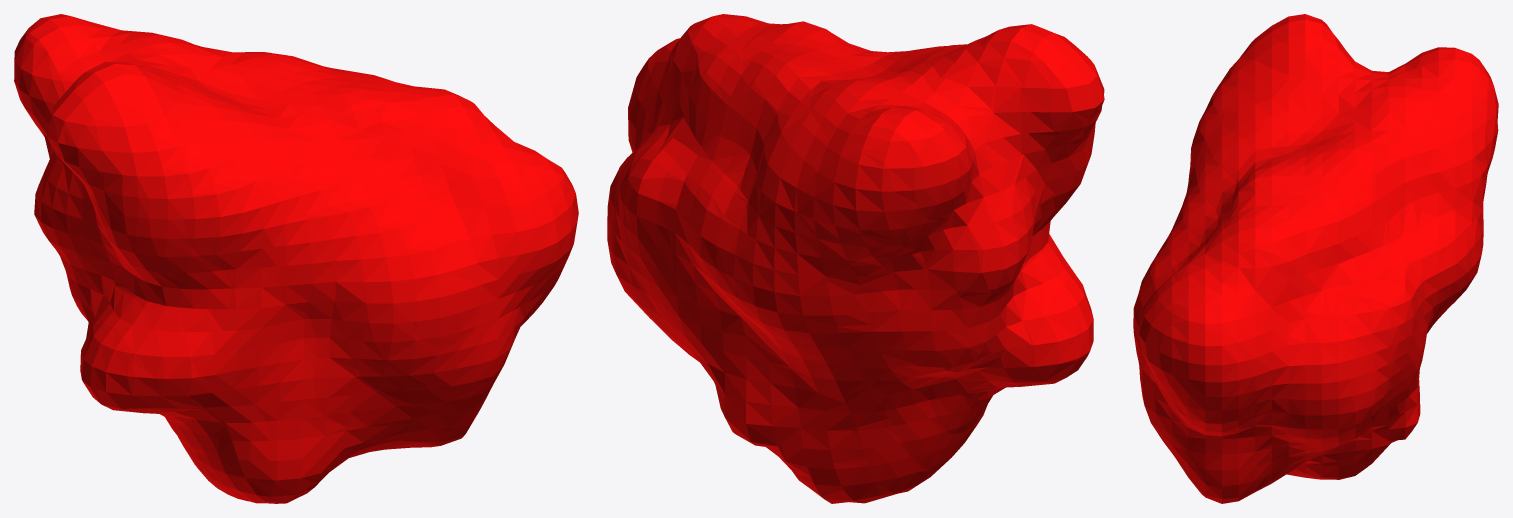
Rendered from ratA_coarse.dae.
The picture shows the model from 3 angles, left to right: view 1: azimuth 30°, elevation 25°; view 2: azimuth 150°, elevation 25°; view 3: azimuth 270°, elevation 25°; orthographic projection. The views are drawn at different scales.
Visible parts, largest first — view 1: ratA; view 2: ratA; view 3: ratA.
Boxes of the visible parts, x1=… form: ratA: x1=14, y1=14, x2=578, y2=503; ratA: x1=607, y1=14, x2=1104, y2=503; ratA: x1=1133, y1=14, x2=1498, y2=503.
Size of the model in its own units: 48.83 by 45.05 by 37.4.
